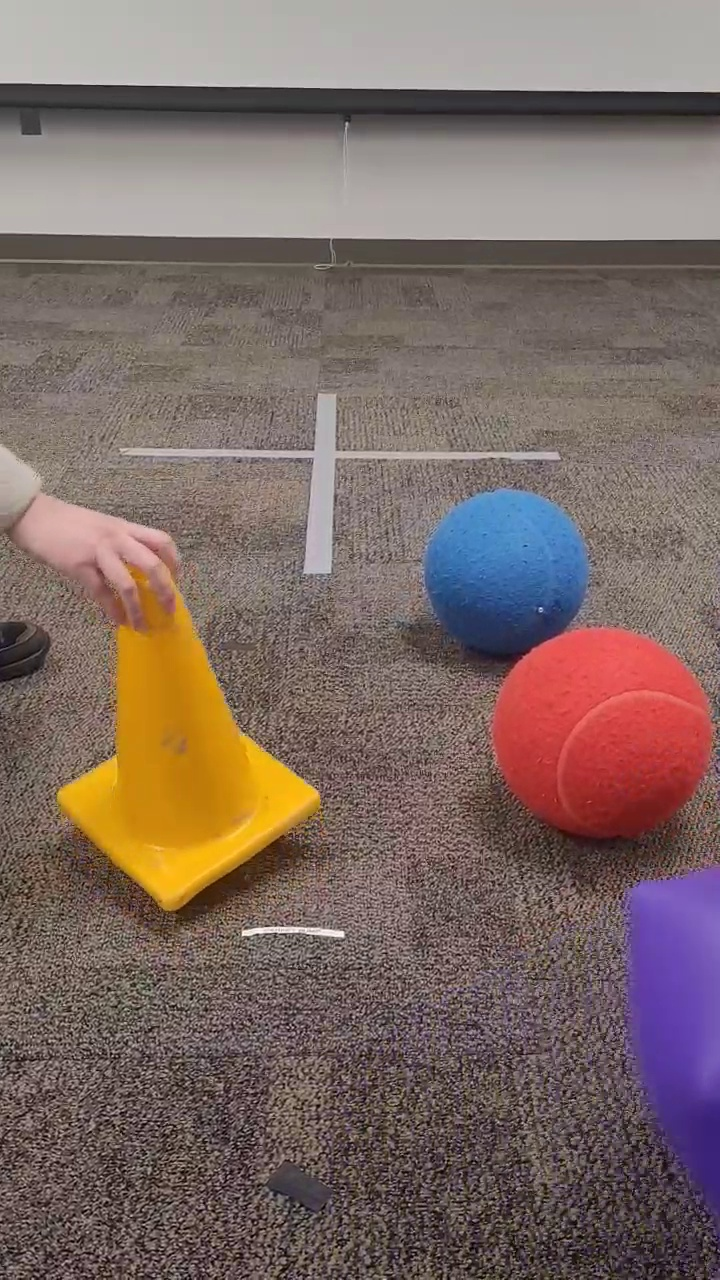ball: (489, 624, 718, 845), (421, 484, 594, 663)
cone: (52, 552, 326, 920), (1, 438, 185, 632)
cube: (621, 856, 720, 1217)
foot: (1, 613, 56, 687)
